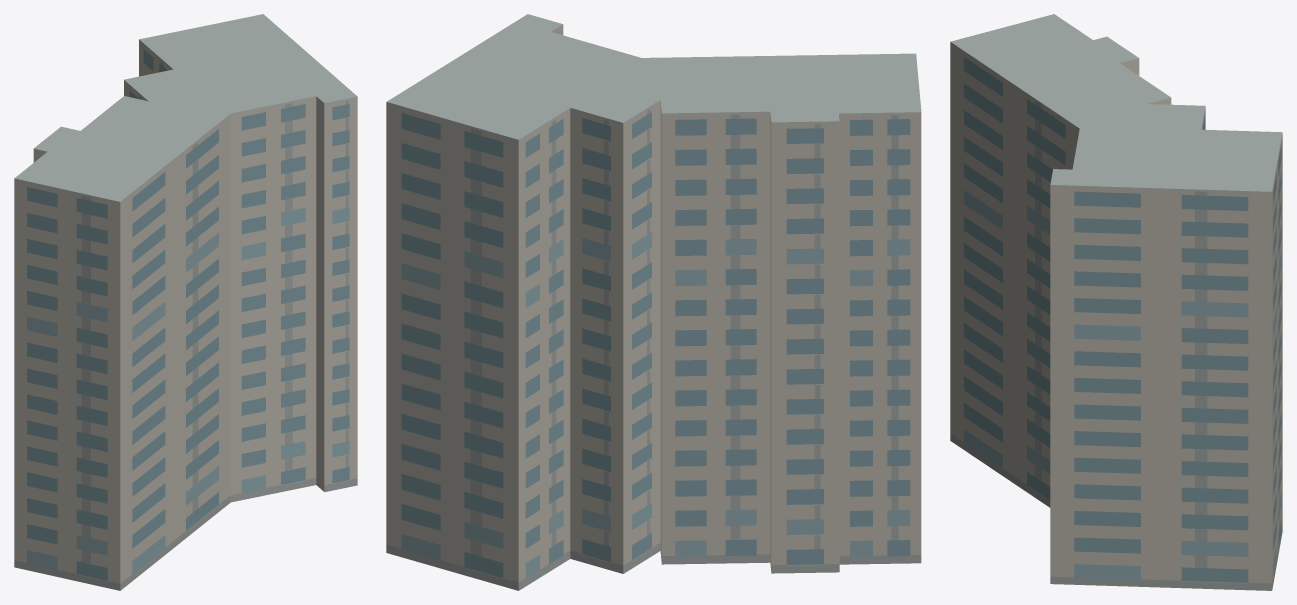
The model's file is residential-8ae6d35e-3fe5-4684-9412-a2a2229d4801.glb.
The picture shows the model from 3 angles, left to right: view 1: azimuth 30°, elevation 25°; view 2: azimuth 150°, elevation 25°; view 3: azimuth 270°, elevation 25°; orthographic projection. The views are drawn at different scales.
Visible parts, largest first — view 1: residential-8ae6d35e-3fe5-4684-9412-a2a2229d4801.tmp; view 2: residential-8ae6d35e-3fe5-4684-9412-a2a2229d4801.tmp; view 3: residential-8ae6d35e-3fe5-4684-9412-a2a2229d4801.tmp.
Part boxes in pixels (<box>): residential-8ae6d35e-3fe5-4684-9412-a2a2229d4801.tmp: <box>14,14,357,590</box>; residential-8ae6d35e-3fe5-4684-9412-a2a2229d4801.tmp: <box>386,14,921,590</box>; residential-8ae6d35e-3fe5-4684-9412-a2a2229d4801.tmp: <box>950,14,1282,590</box>.
Bounding box in the file's own units: 41.1 × 43 × 32.46.
